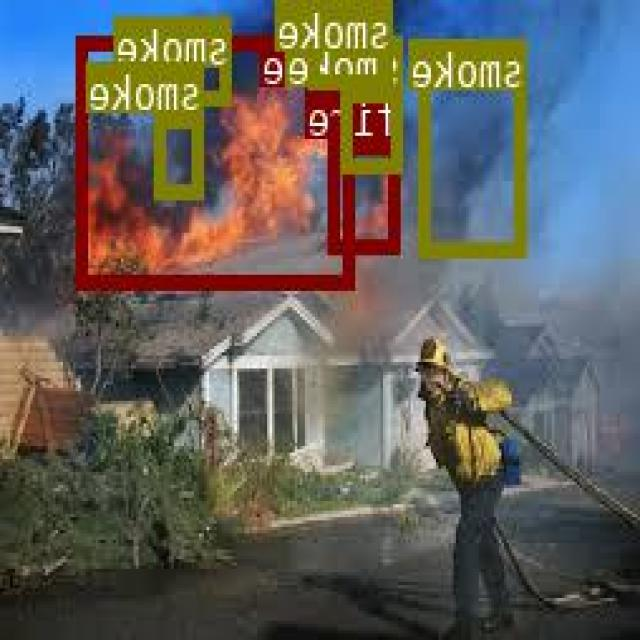fire: (80, 36, 355, 284), (332, 138, 402, 250)
smoke: (422, 36, 528, 254), (310, 0, 393, 87), (172, 16, 232, 103), (345, 87, 406, 168), (158, 111, 206, 197)
